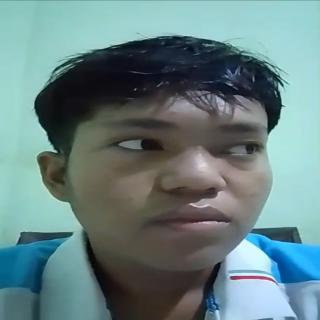Takut: (60, 55, 294, 278)
